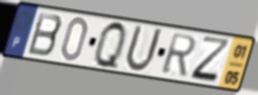0: (59, 16, 89, 64)
B: (25, 11, 64, 59)
Q: (93, 19, 128, 73)
R: (159, 32, 199, 78)
U: (122, 23, 165, 75)
Z: (188, 34, 233, 86)
